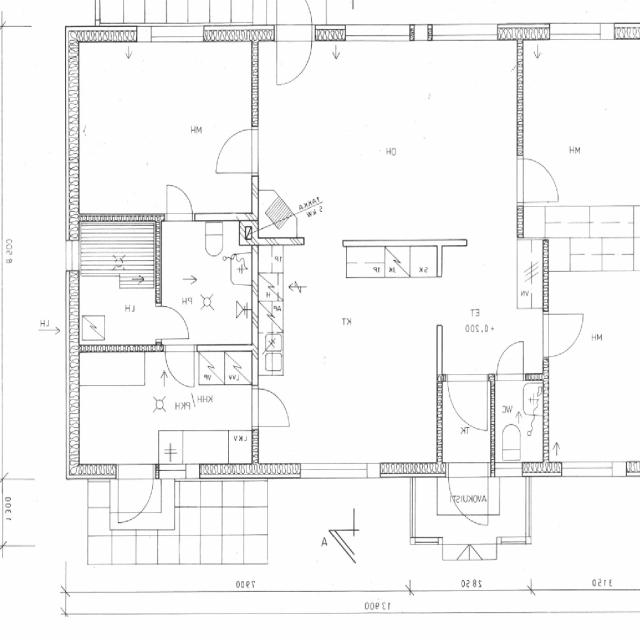door: (449, 463, 488, 525), (448, 373, 488, 429), (277, 24, 312, 84), (118, 463, 153, 520), (216, 129, 258, 172), (517, 159, 558, 202), (544, 314, 584, 356), (252, 388, 290, 427), (277, 0, 312, 41), (166, 344, 194, 387), (497, 340, 524, 380), (156, 306, 188, 339), (168, 182, 192, 220)
